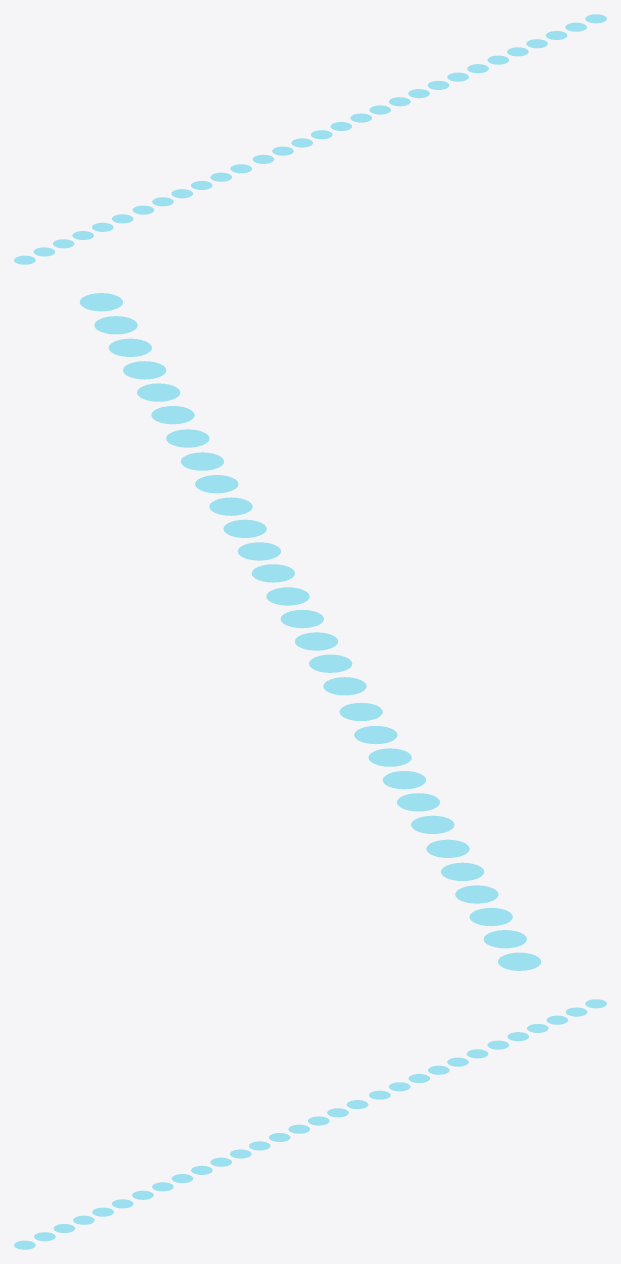
File: path.gltf
3 renders of one model, top to bottom at view 1: azimuth 90°, elevation 25°; view 2: azimuth 150°, elevation 25°; view 3: azimuth 270°, elevation 25°, orthographic. The views are drawn at different scales.
Size of the model in its own units: 43.05 by 3.33e-16 by 43.05.
